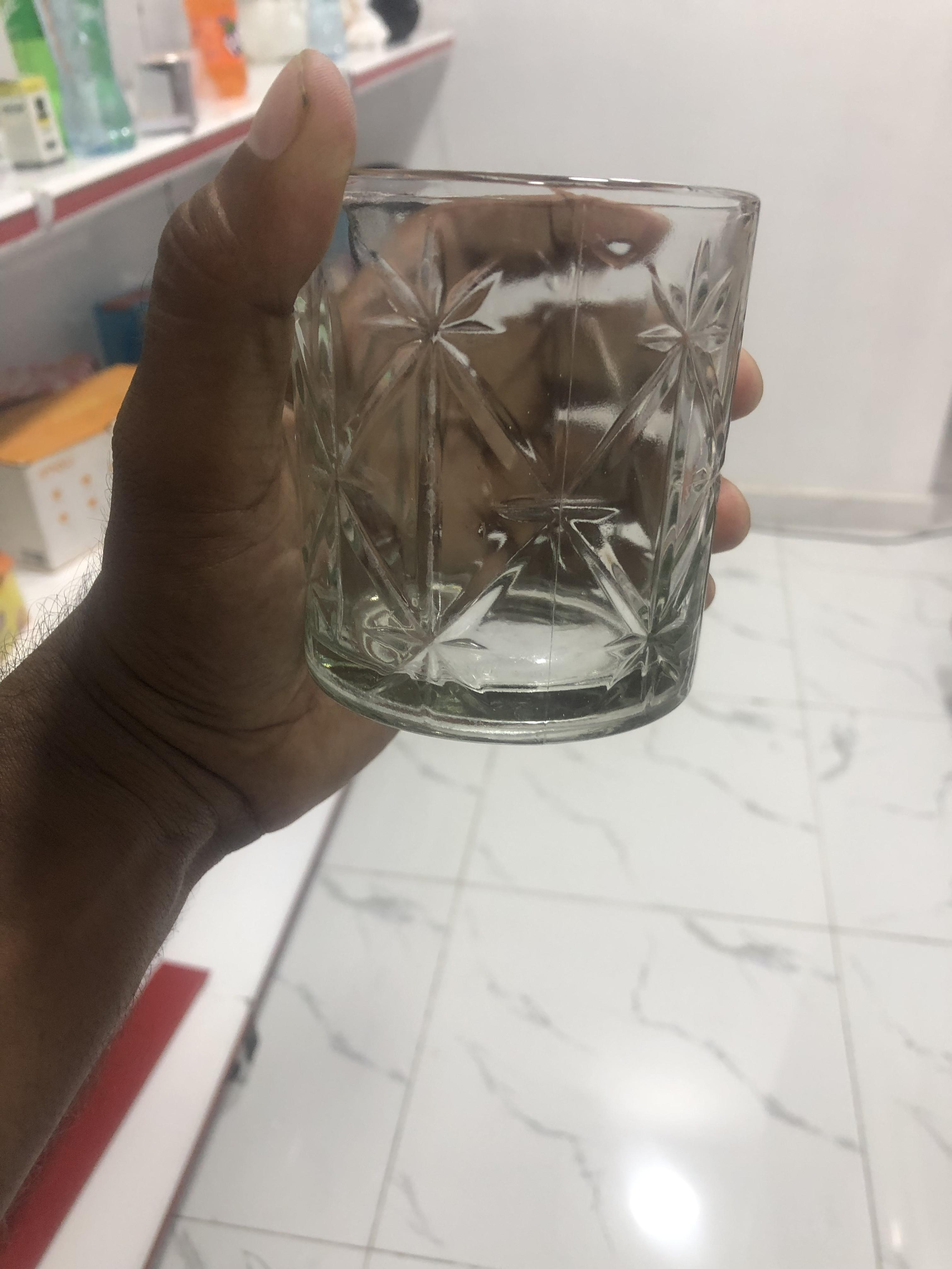glass-normal: (263, 131, 769, 759)
